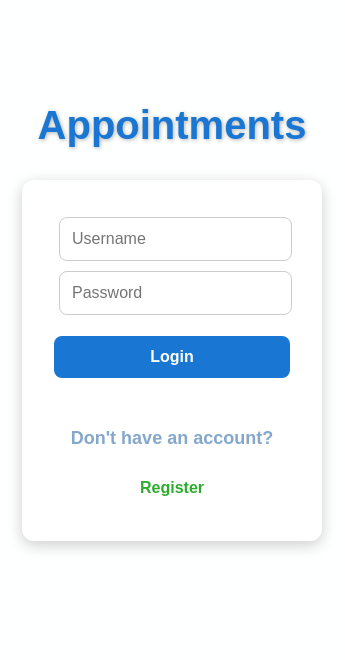
Scenario: Login Component › switches to register form when register button is clicked
Click the button "Register" at (172, 488), box [128,467,216,509]
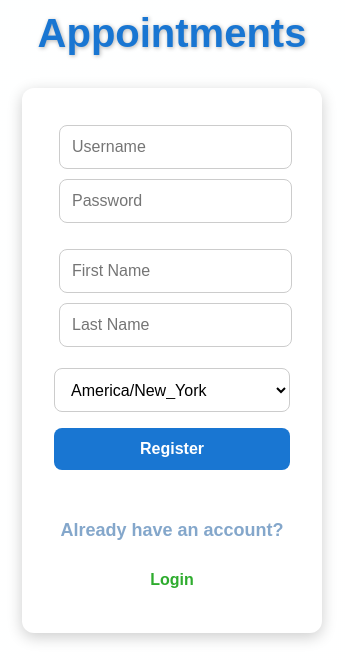
Expected: the field with placeholder "First Name" is shown, [59,249,292,293]
Expected: the field with placeholder "Last Name" is shown, [59,303,292,347]
Expected: the dropdown showing "America/New_York" is shown, [54,368,290,412]
